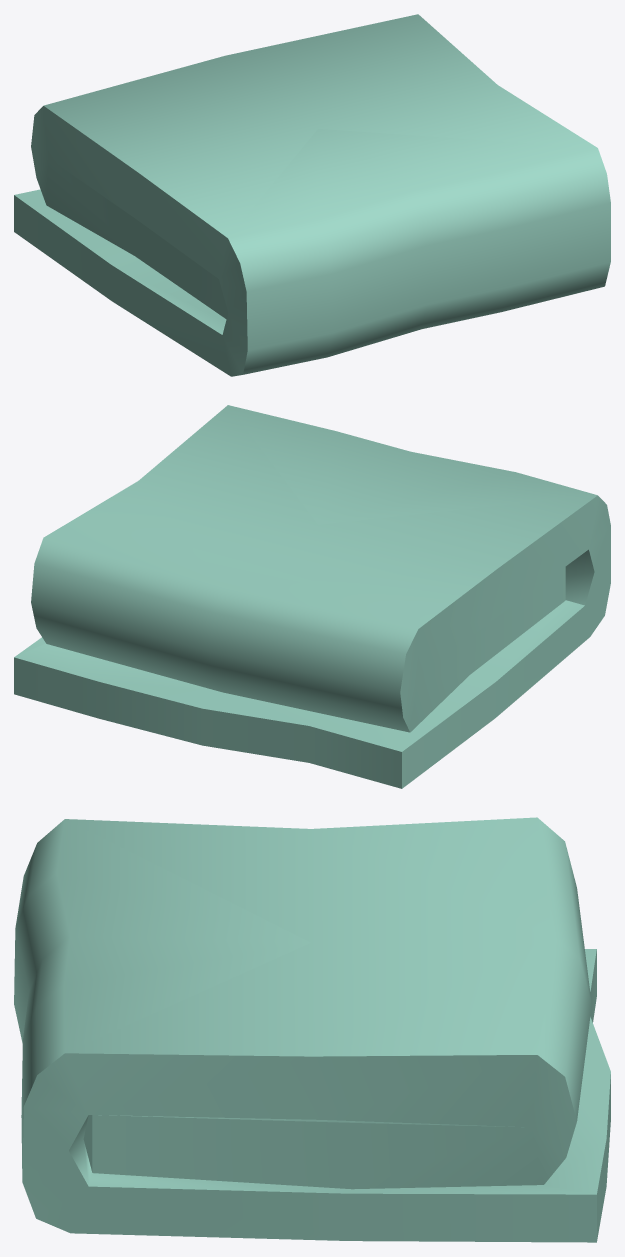
File: Towel_geo.fbx
3 views of the same model, one above another, from view 1: azimuth 30°, elevation 25°; view 2: azimuth 150°, elevation 25°; view 3: azimuth 270°, elevation 25° (orthographic). The views are drawn at different scales.
Parts seen in each view (by area): view 1: Towel_geo; view 2: Towel_geo; view 3: Towel_geo.
Part boxes in pixels (x1=…): Towel_geo: x1=14, y1=14, x2=610, y2=376; Towel_geo: x1=14, y1=405, x2=610, y2=788; Towel_geo: x1=14, y1=817, x2=610, y2=1242.
Size of the model in its own units: 0.3327 by 0.3416 by 0.1159.
